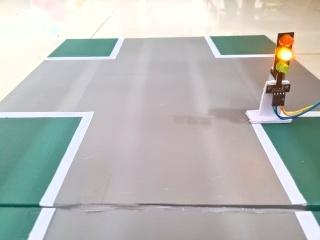yellow: (259, 21, 305, 84)
